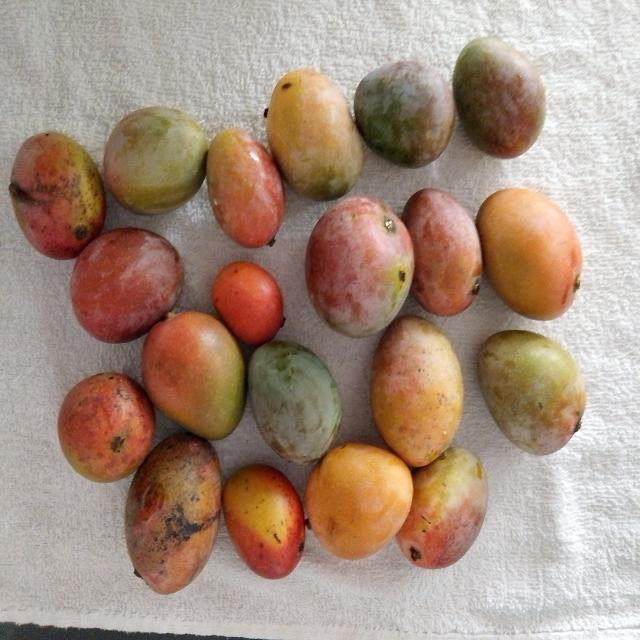mango: (125, 433, 221, 594), (306, 197, 414, 337), (370, 316, 463, 466), (476, 188, 581, 319), (70, 227, 185, 345), (141, 311, 245, 439), (478, 331, 585, 455), (267, 69, 363, 200), (306, 443, 413, 559), (9, 132, 106, 259), (248, 341, 341, 462), (104, 107, 207, 215), (453, 38, 545, 158), (396, 448, 487, 568), (354, 61, 455, 167), (58, 373, 155, 482), (403, 189, 482, 316), (222, 464, 305, 579), (207, 128, 285, 248)
